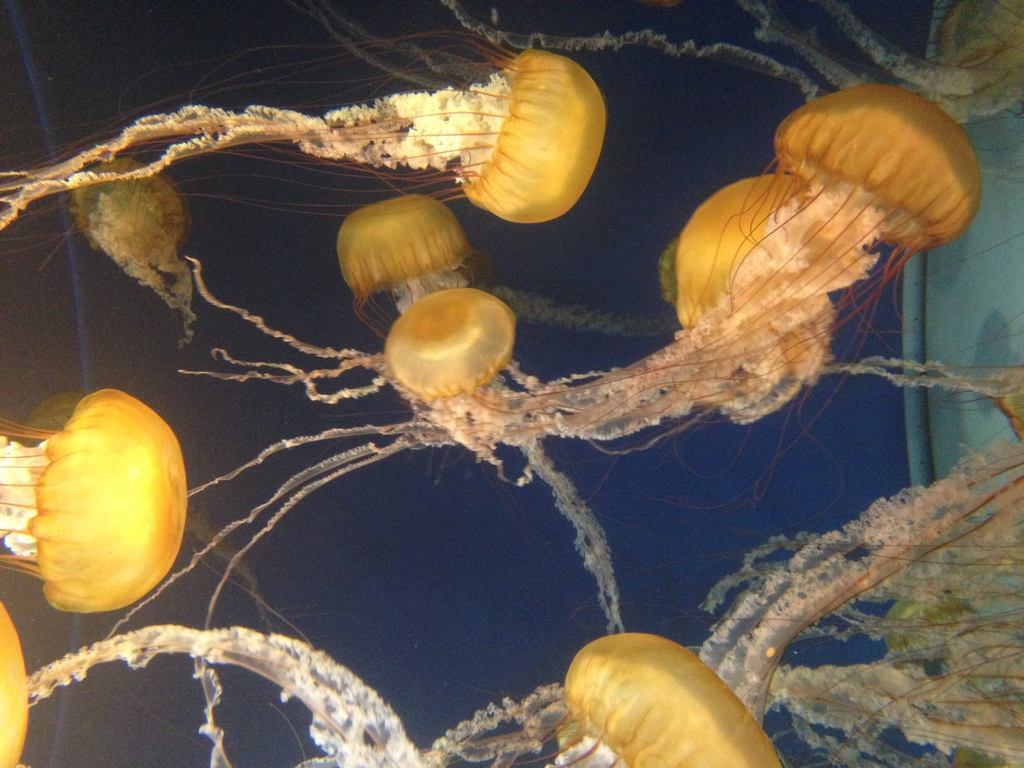Jellyfish: (0, 0, 1023, 551)
